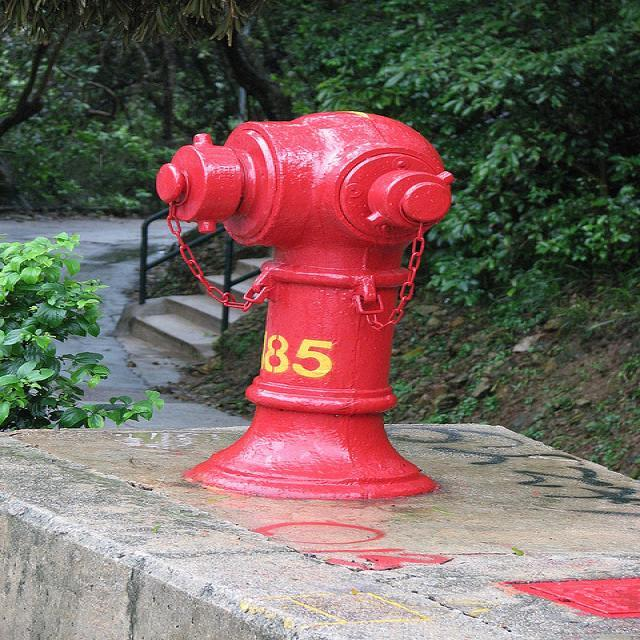fire_hydrant: (160, 109, 452, 507)
